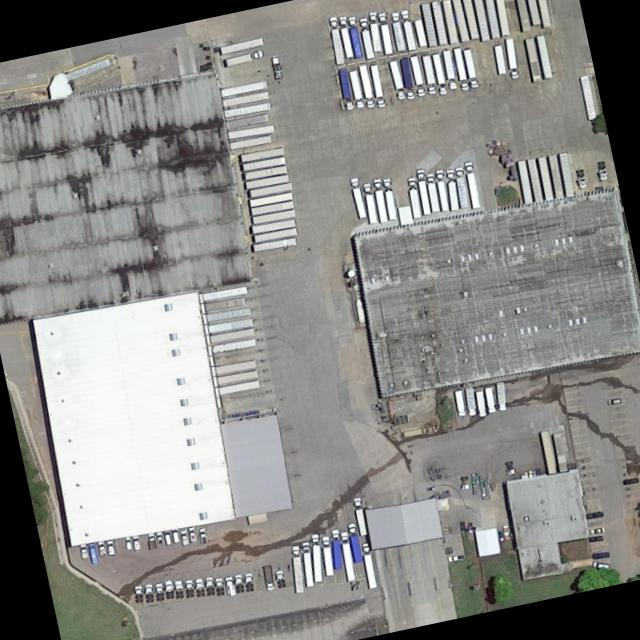large-vehicle: (339, 529, 356, 580), (329, 13, 345, 63), (452, 46, 470, 89), (464, 159, 480, 207), (349, 175, 367, 217), (358, 63, 375, 107), (415, 167, 431, 213), (388, 58, 406, 98), (370, 62, 386, 107), (361, 541, 377, 586), (346, 14, 363, 56), (338, 13, 354, 56), (358, 15, 374, 58), (348, 68, 365, 108), (372, 176, 387, 221), (504, 36, 520, 78), (431, 51, 447, 93), (377, 10, 393, 52), (400, 7, 416, 49), (435, 166, 450, 210), (409, 54, 425, 95), (347, 520, 363, 561), (382, 175, 397, 218), (441, 48, 457, 88), (400, 56, 415, 98), (225, 48, 262, 65), (463, 47, 479, 86), (310, 532, 323, 580), (406, 175, 421, 216), (339, 67, 354, 108), (301, 540, 314, 585), (362, 181, 376, 222), (368, 9, 382, 50), (352, 496, 367, 534), (291, 544, 303, 591), (426, 171, 440, 211), (455, 164, 468, 206), (422, 54, 436, 93), (446, 168, 459, 208), (321, 534, 334, 574), (330, 528, 343, 568), (391, 10, 404, 49), (464, 385, 477, 415), (454, 388, 467, 415), (474, 389, 487, 416), (483, 385, 496, 412), (496, 380, 508, 409), (270, 54, 283, 78), (262, 564, 274, 589), (88, 541, 99, 562)
small-vehicle: (224, 574, 237, 595), (204, 573, 216, 595), (183, 577, 196, 597), (274, 568, 286, 587), (234, 572, 245, 592), (174, 578, 185, 598), (195, 577, 206, 596), (163, 579, 174, 598), (144, 582, 154, 602), (244, 570, 254, 590), (146, 531, 157, 549), (179, 527, 190, 545), (215, 576, 225, 595), (155, 580, 165, 599), (134, 583, 144, 602), (447, 551, 465, 561), (592, 559, 610, 569), (592, 549, 610, 559), (198, 526, 208, 543), (97, 539, 107, 556), (586, 509, 604, 518), (187, 525, 197, 541), (106, 538, 115, 555), (132, 534, 141, 551), (163, 529, 173, 544), (170, 527, 180, 542), (623, 476, 639, 484), (124, 535, 133, 549), (607, 396, 621, 404), (591, 525, 605, 533), (155, 530, 163, 544), (588, 534, 603, 541)
